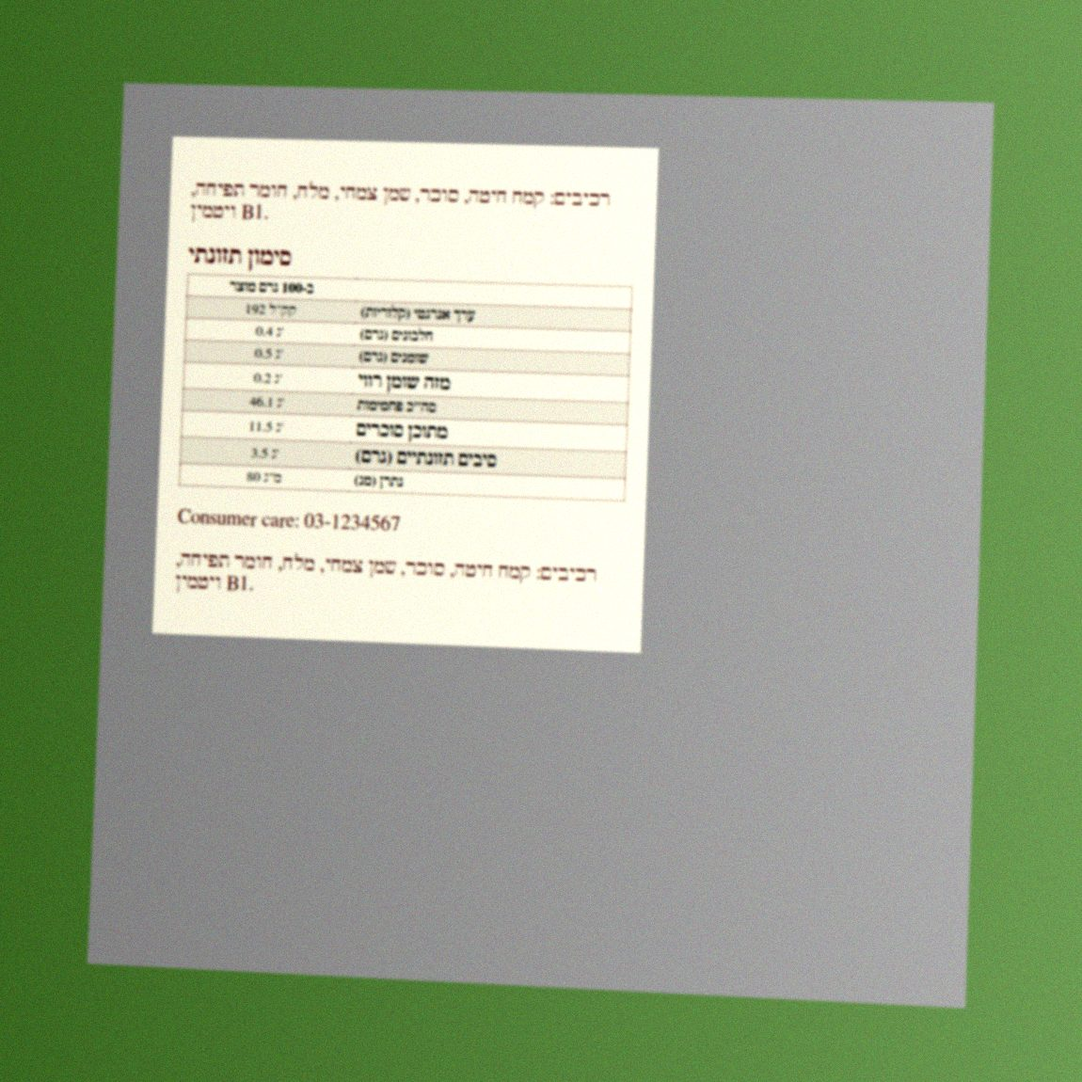carbs: (247, 393, 287, 412)
energy: (243, 300, 299, 319)
fat: (253, 344, 285, 363)
protein: (254, 322, 286, 341)
